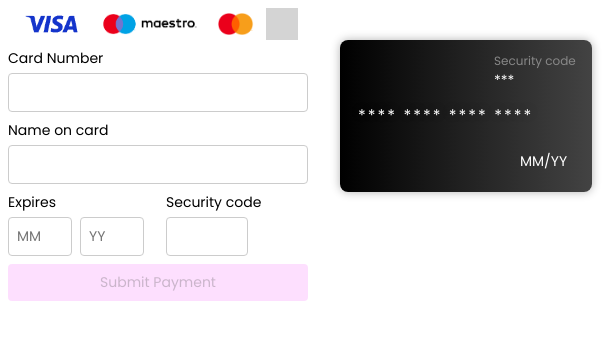
it: CreditCardForm › Credit card form fields › Expiry date fields › should not allow an expiry year in the past
Type "20" into the field named "Expiry year field" at (112, 236), box x1=80 y1=217 x2=144 y2=256
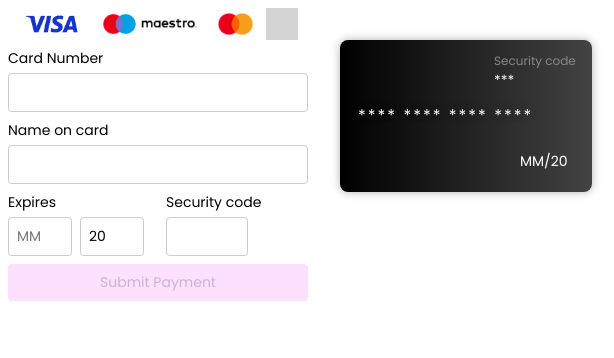
Leave the field named "Expiry year field", box x1=80 y1=217 x2=144 y2=256
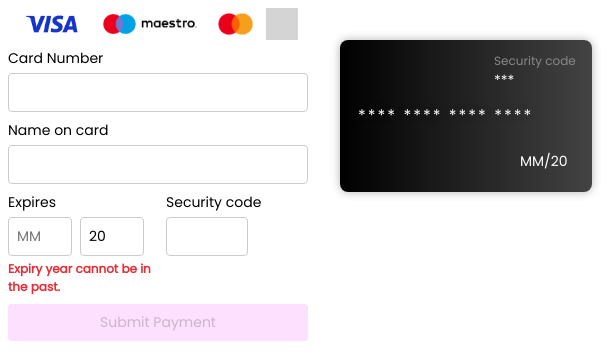
Expected: the text "Expiry year cannot be in the past." is shown, x1=8 y1=260 x2=158 y2=296
